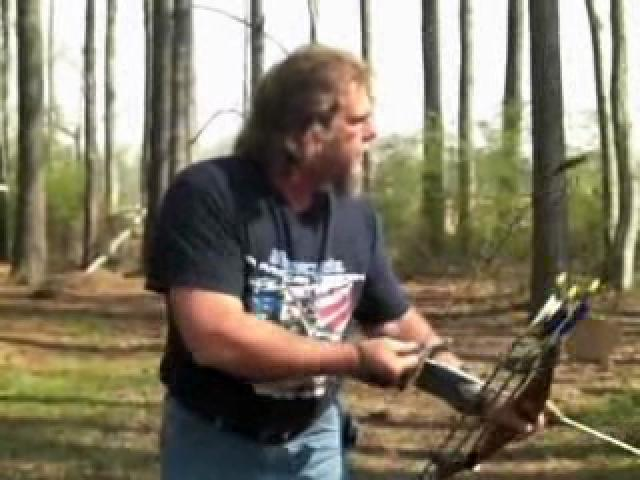I: (128, 47, 581, 441)
